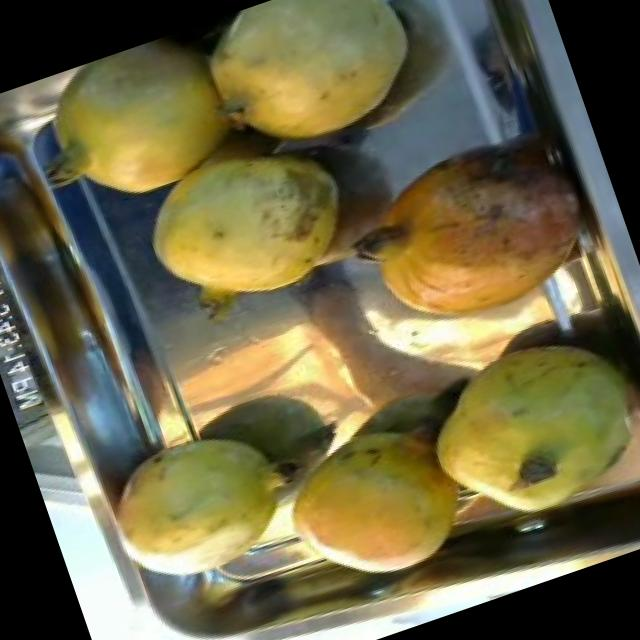fruit: (326, 101, 624, 362), (387, 298, 640, 562), (114, 109, 388, 350), (244, 383, 502, 618), (15, 18, 271, 240), (80, 390, 334, 613), (175, 0, 450, 180)
